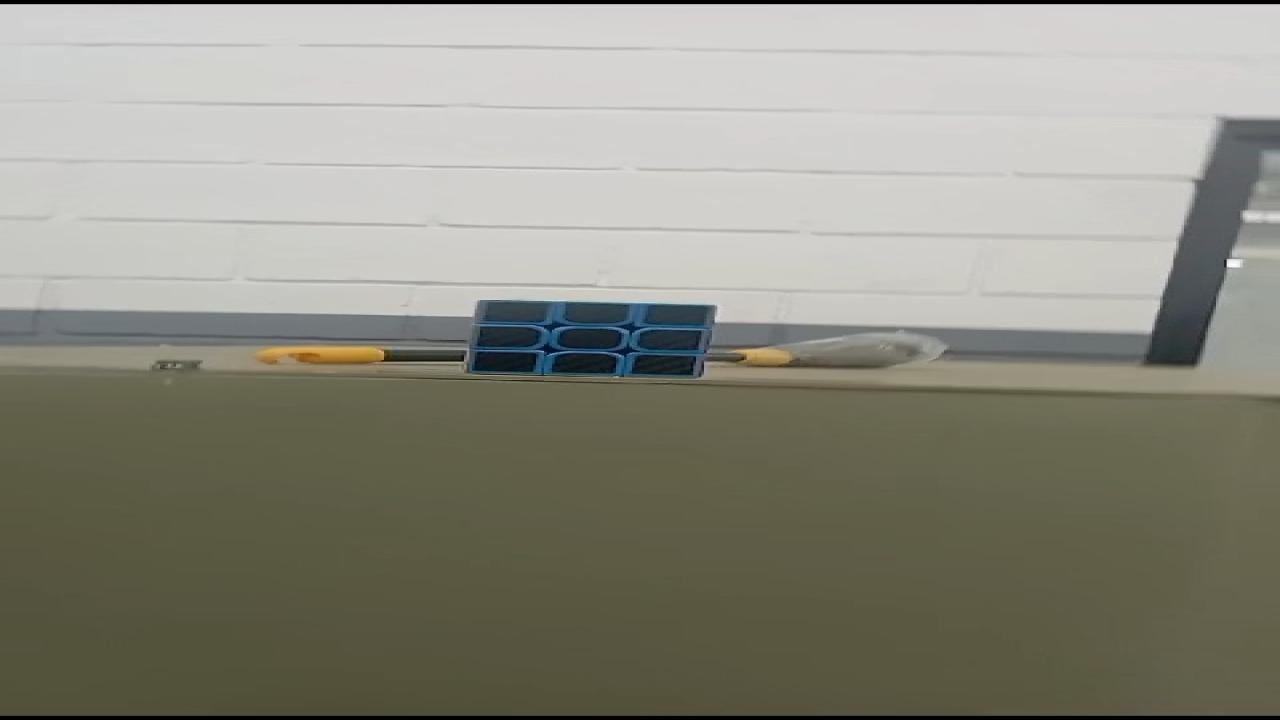Cube: (456, 298, 717, 380)
